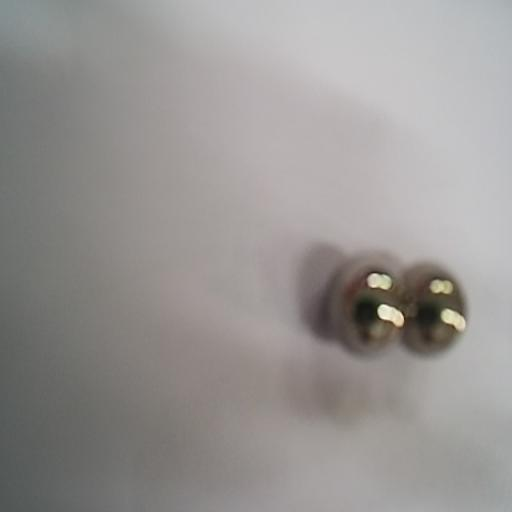steel-ball: (324, 244, 404, 363), (404, 255, 472, 364)
